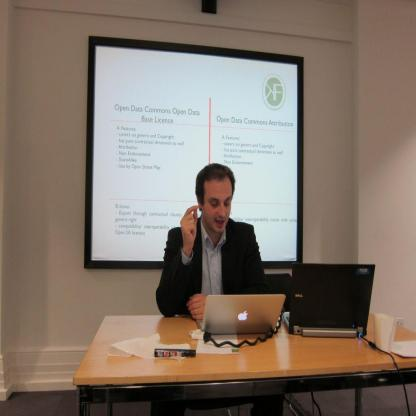board: (273, 264, 375, 351), (196, 296, 286, 334)
